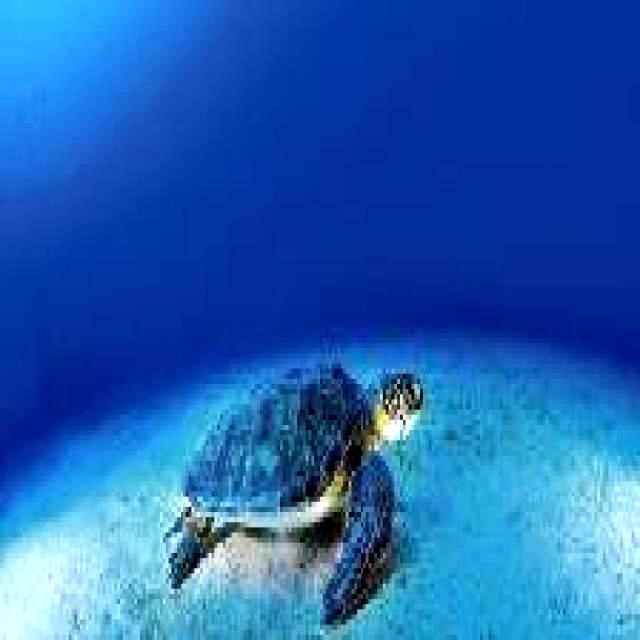Sea turtle: (160, 353, 426, 640)
